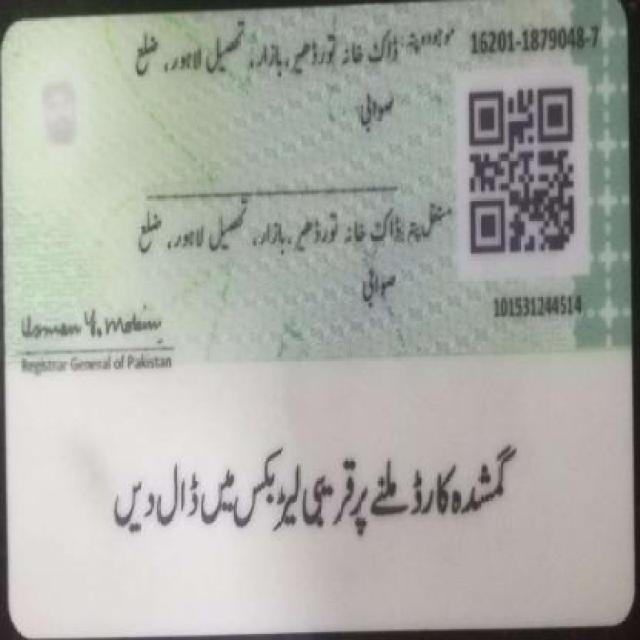Back: (8, 4, 629, 622)
